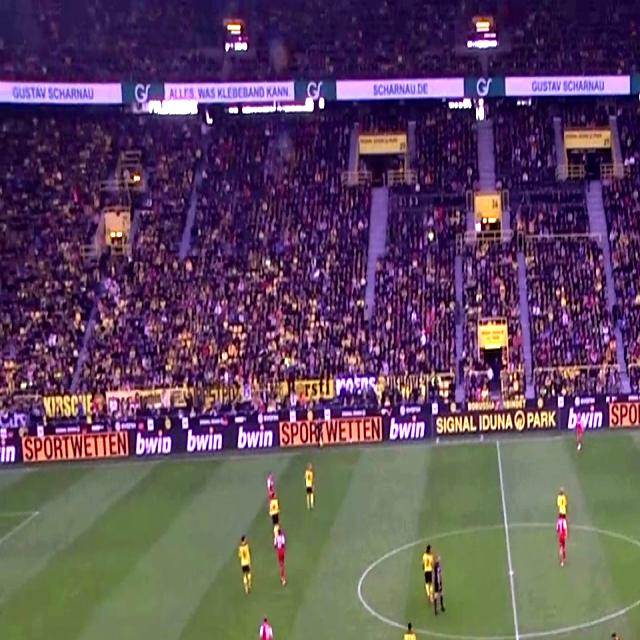referee: (432, 554, 448, 616)
soccer-player: (270, 523, 294, 597), (232, 530, 256, 599), (263, 470, 285, 530), (418, 538, 433, 620), (569, 402, 591, 456), (299, 462, 320, 518), (552, 511, 566, 578), (252, 615, 282, 640), (399, 620, 427, 640), (608, 628, 640, 640), (458, 637, 490, 640)
